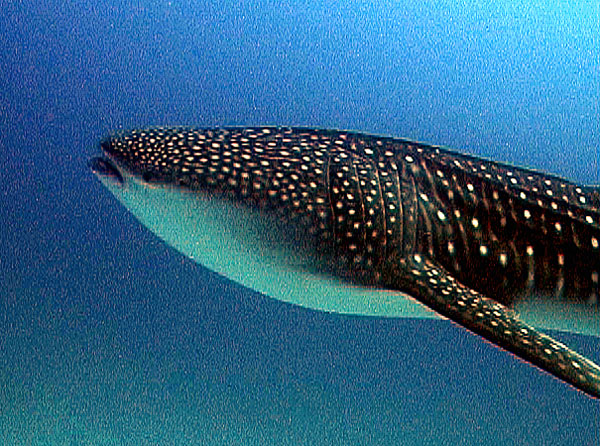Rhincodon_typusw: (88, 103, 600, 409)
